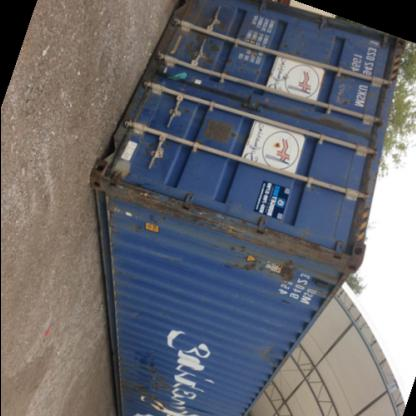Damage: (213, 226, 310, 289), (108, 181, 209, 224), (186, 8, 228, 67), (136, 350, 173, 414), (198, 115, 244, 147), (320, 75, 356, 113), (259, 336, 286, 364)
